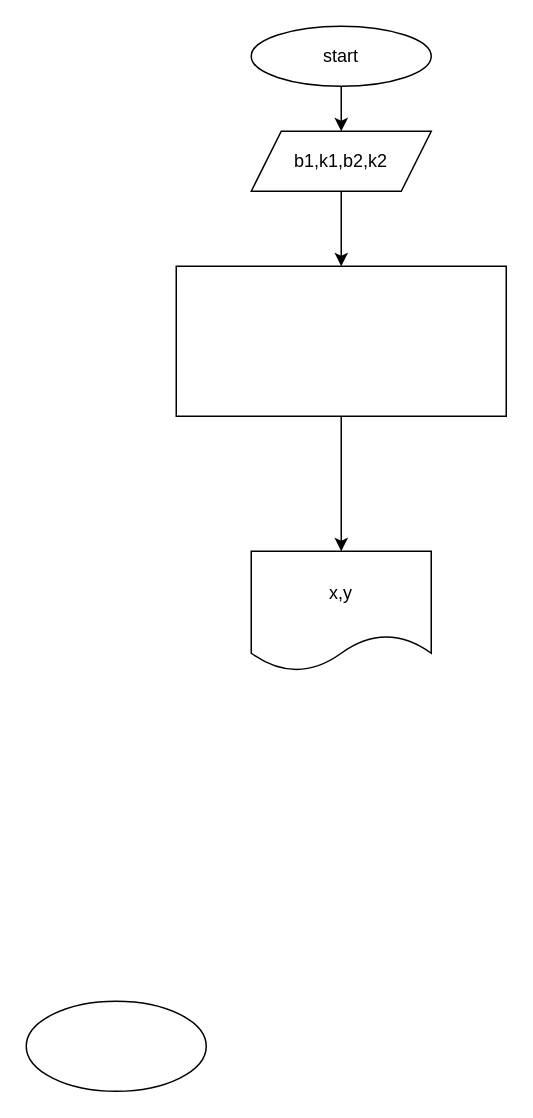
This 533x1118 diagram has some shape labels left out. The centre of each missing label's shape, as x and y in pixels:
"stop" belongs at (115,1045).
"x = ( b2 - b1 ) / ( k1 - k2 ); y = k1 * x + b1 ;" belongs at (340,340).
